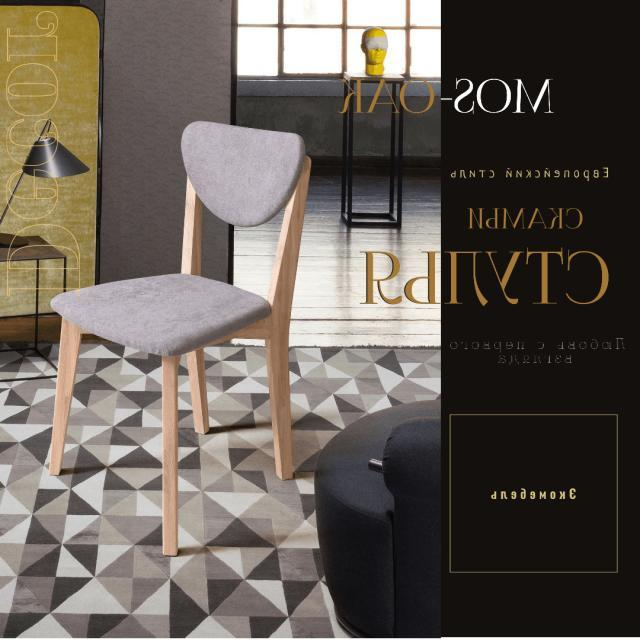chair: (44, 118, 317, 560), (58, 118, 315, 358)
